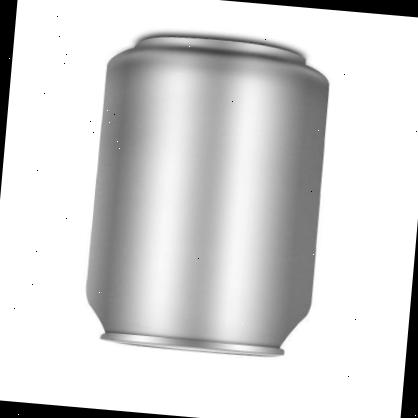can: (77, 34, 331, 362)
